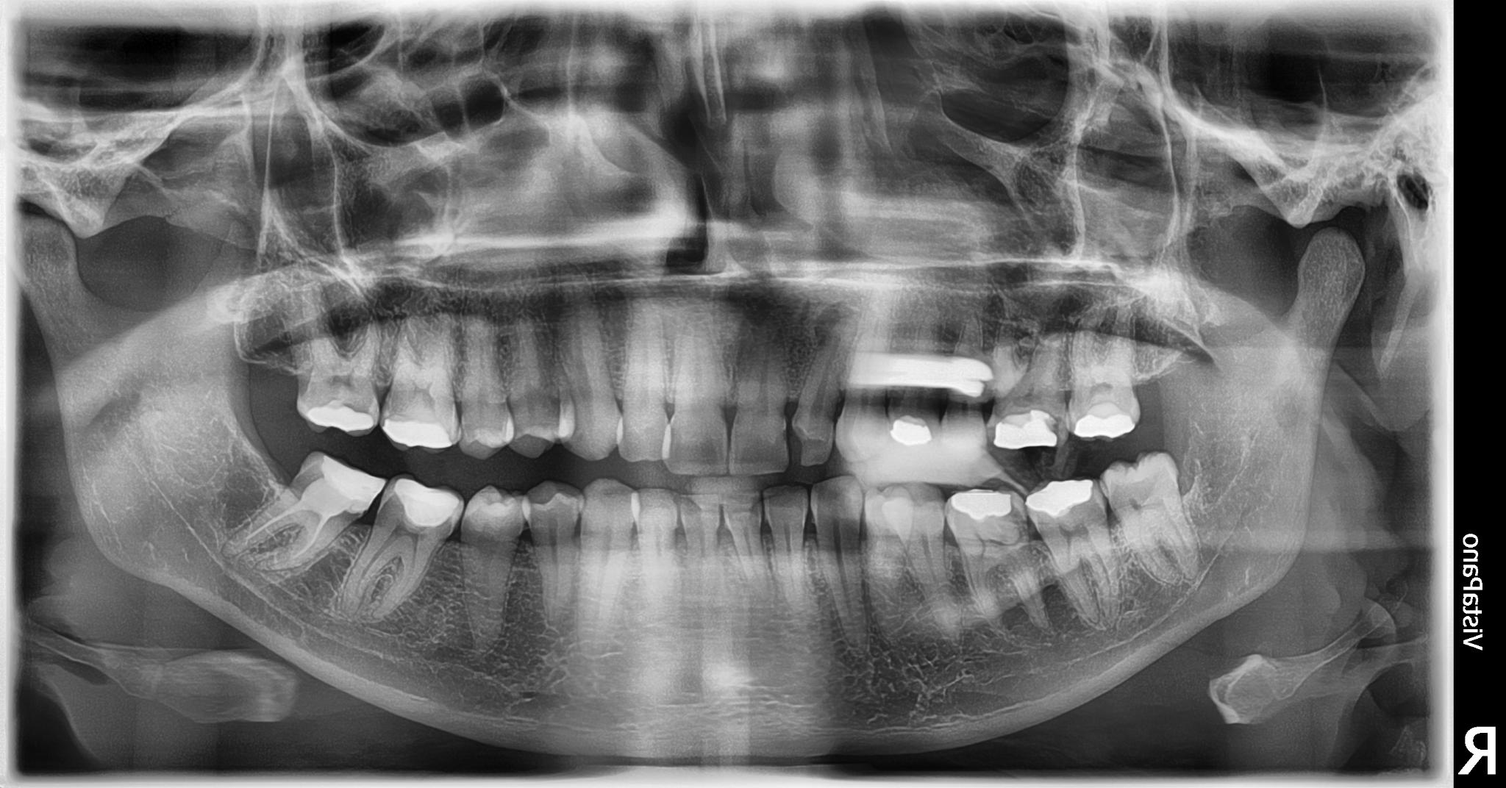Premolars: (531, 322, 1506, 788), (534, 222, 1506, 561), (415, 228, 1279, 559), (395, 315, 1191, 641), (324, 262, 922, 541), (260, 230, 761, 540), (229, 250, 691, 560), (186, 225, 580, 543)
